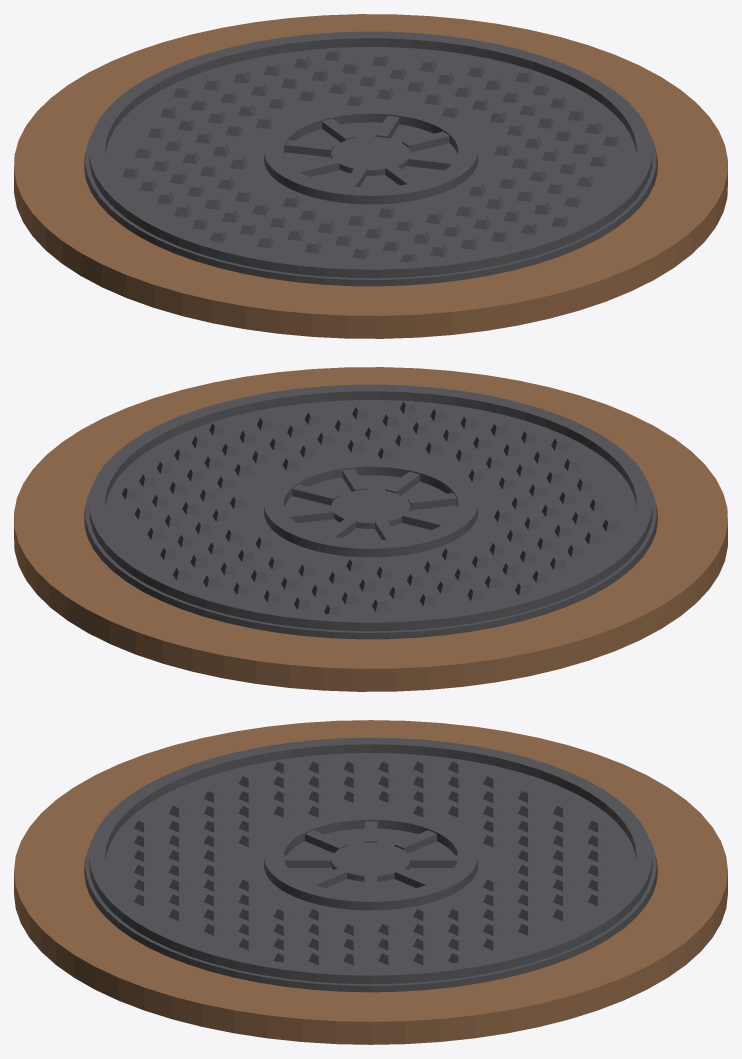
Rendered from SM_Manhole.fbx.
3 renders of one model, top to bottom at view 1: azimuth 30°, elevation 25°; view 2: azimuth 150°, elevation 25°; view 3: azimuth 270°, elevation 25°, orthographic.
Visible parts, largest first — view 1: SM_Manhole, Frame; view 2: SM_Manhole, Frame; view 3: SM_Manhole, Frame.
Part boxes in pixels (box(x1,y1,x2,y2)): SM_Manhole: box(85, 31, 656, 286); Frame: box(14, 14, 727, 338); SM_Manhole: box(85, 384, 656, 639); Frame: box(14, 367, 727, 691); SM_Manhole: box(85, 737, 656, 992); Frame: box(14, 720, 727, 1044).
Bounding box in the file's own units: 0.9 × 0.052 × 0.9.
